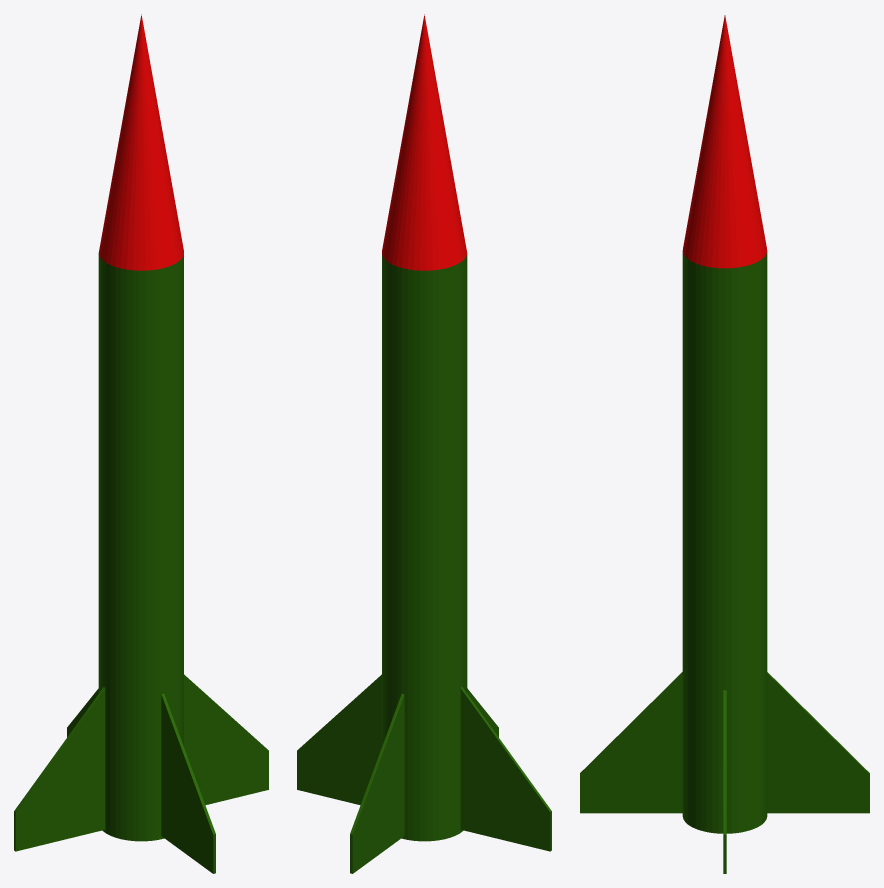
File: BalisticTarget_Missile.fbx
The picture shows the model from 3 angles, left to right: view 1: azimuth 30°, elevation 25°; view 2: azimuth 150°, elevation 25°; view 3: azimuth 270°, elevation 25°; orthographic projection.
Parts seen in each view (by area): view 1: pCylinder3, pCube1, pCube2; view 2: pCylinder3, pCube1, pCube2; view 3: pCylinder3, pCube2, pCube1.
Part boxes in pixels (x1,y1,x2,y2): pCylinder3: (98, 14, 183, 841); pCube1: (14, 674, 268, 851); pCube2: (67, 688, 215, 873); pCylinder3: (382, 14, 467, 841); pCube1: (297, 674, 551, 851); pCube2: (350, 688, 498, 873); pCylinder3: (682, 15, 767, 833); pCube2: (580, 672, 869, 813); pCube1: (723, 690, 726, 873).
Size of the model in its own units: 10.73 by 32.77 by 10.73.
